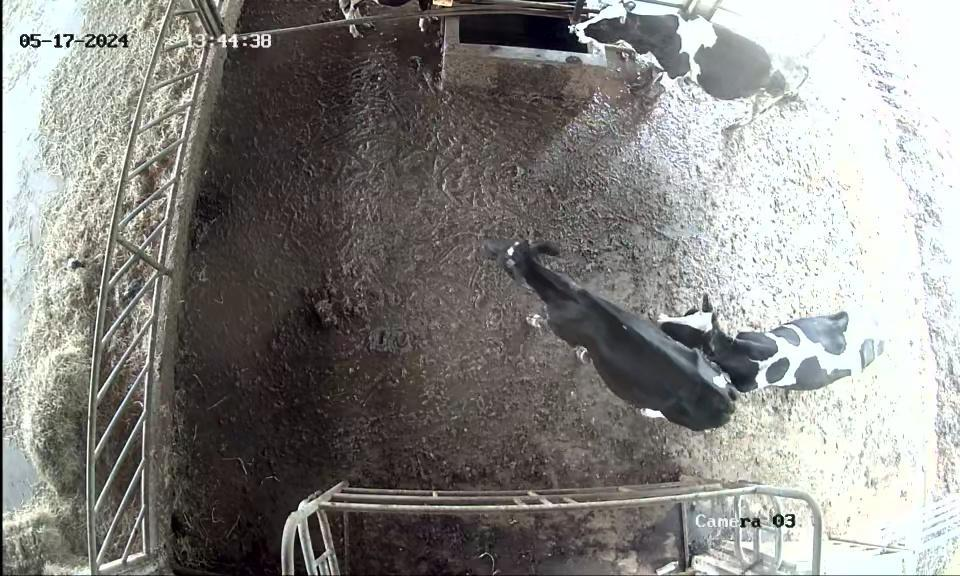stand: (489, 228, 745, 444), (655, 263, 894, 413), (569, 0, 805, 130)
